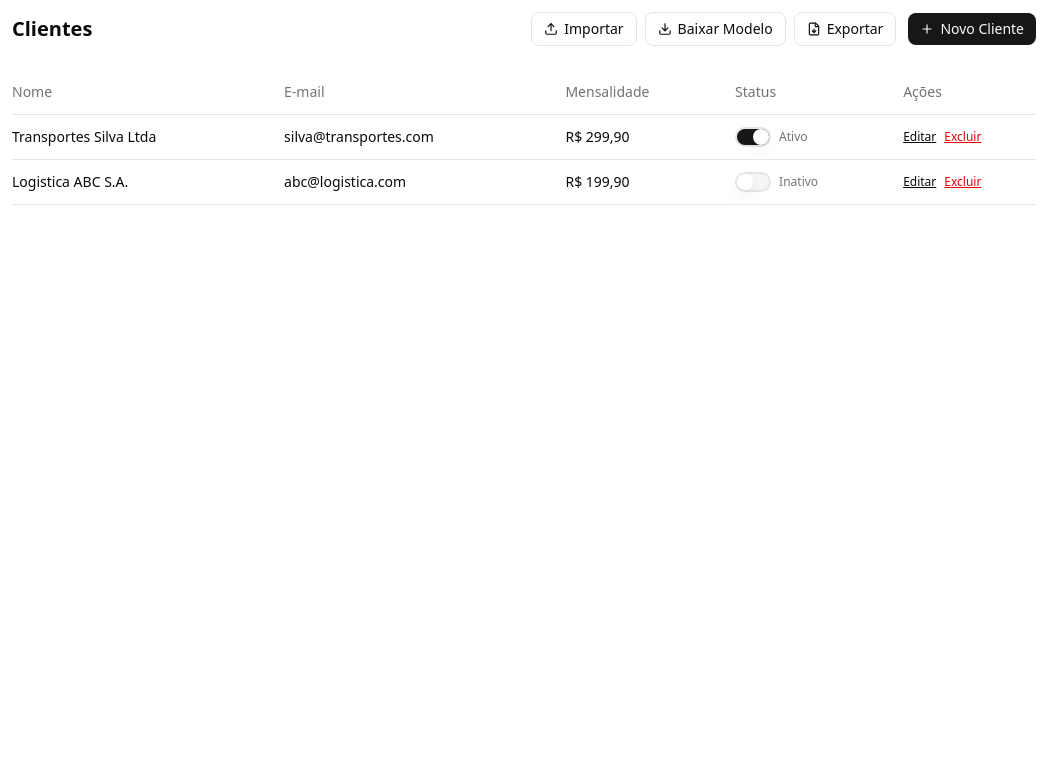
Test: CustomersPage › clique em Editar → abre formulário com dados do cliente
Click the button "Editar" in the row of "Transportes Silva Ltda" at (920, 137), box [903,129,936,145]
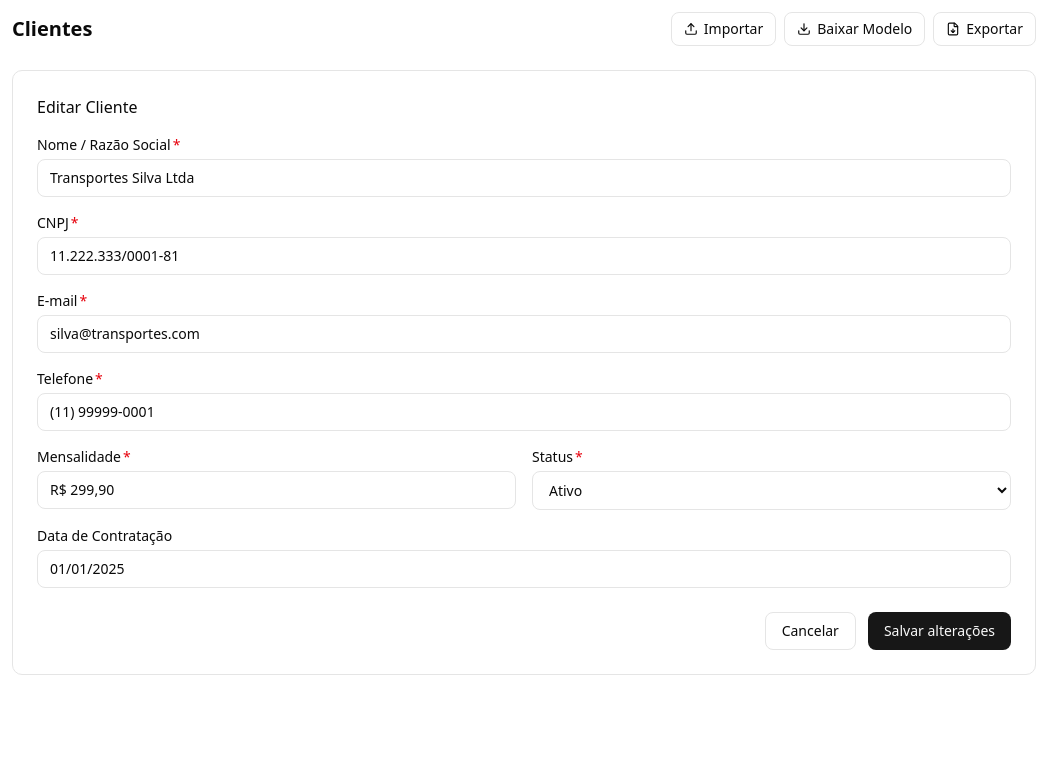
Result: the button "Salvar alterações" is shown at [868,612,1011,650]
Result: the field showing "Transportes Silva Ltda" is shown at [37,159,1011,197]
